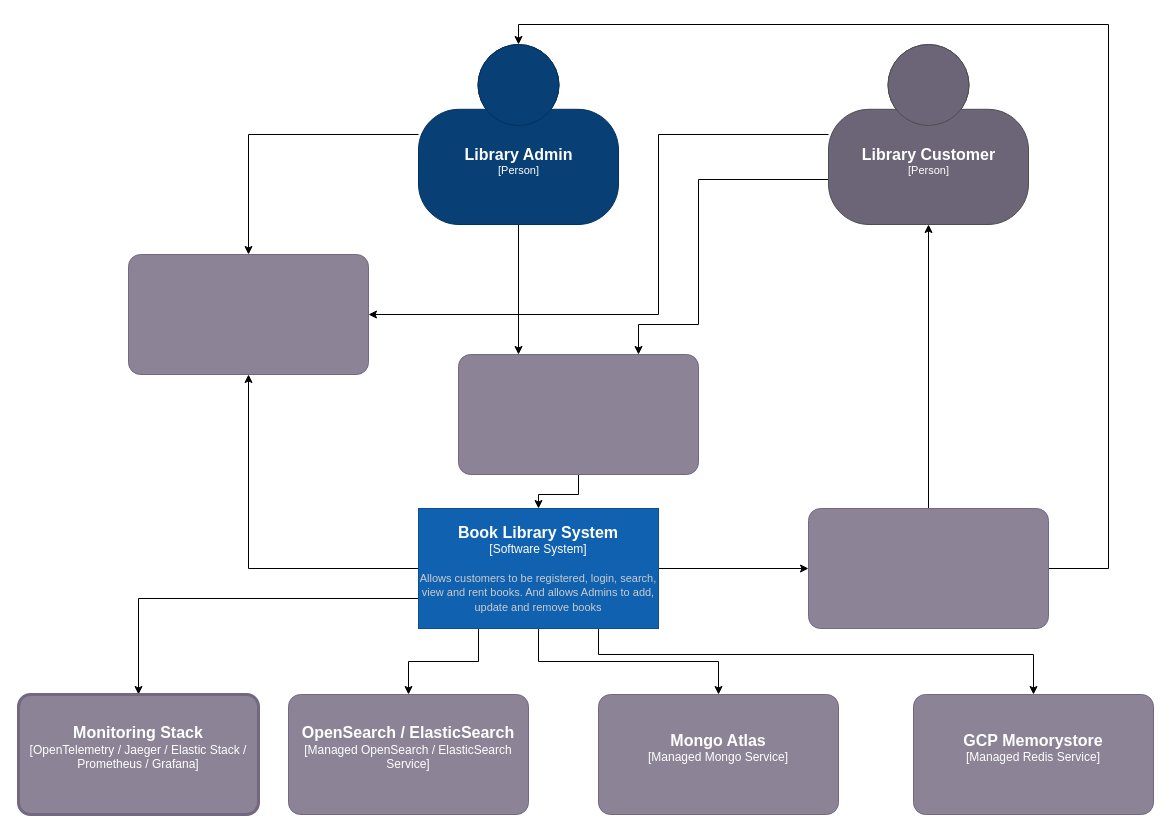
Image size: 1171x833. Some labels were removed from this diagram. The box of each missing label's shape, as (x1, y1, x2, y2) in pixels:
Authorization [Software System] Okta, KeyCloak: (128, 254, 368, 374)
General Purpose Caching [Software System] Varnish, Cloudflare: (458, 354, 698, 474)
Notification System [Software System] Email, WhatsApp, Telegram, Twilio: (808, 508, 1048, 628)
